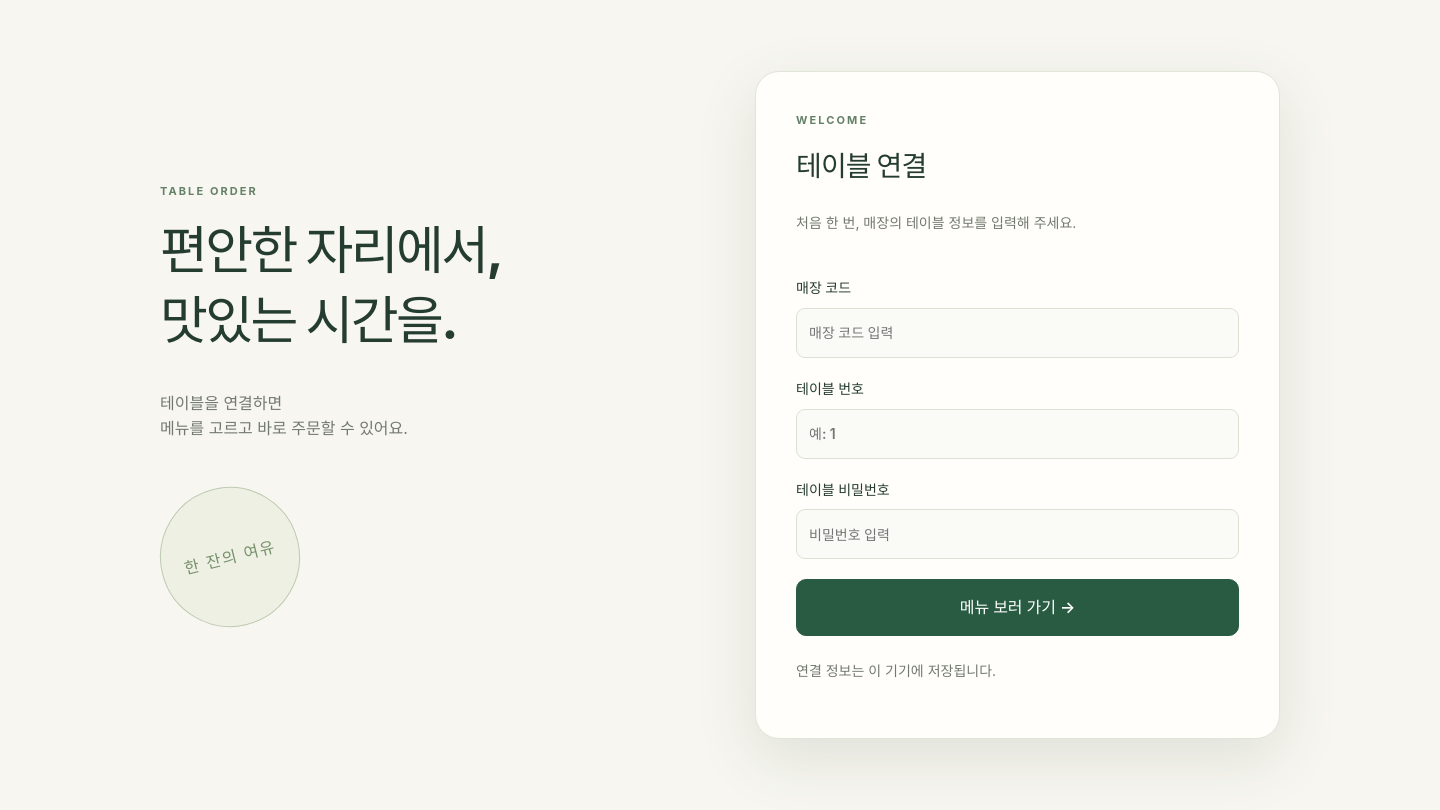
Test: shows a failed login without losing entered fields
This screenshot has width=1440, height=810.
Type "demo" into the field labelled "매장 코드".
click(1018, 333); type("demo")  # box [796,308,1239,358]
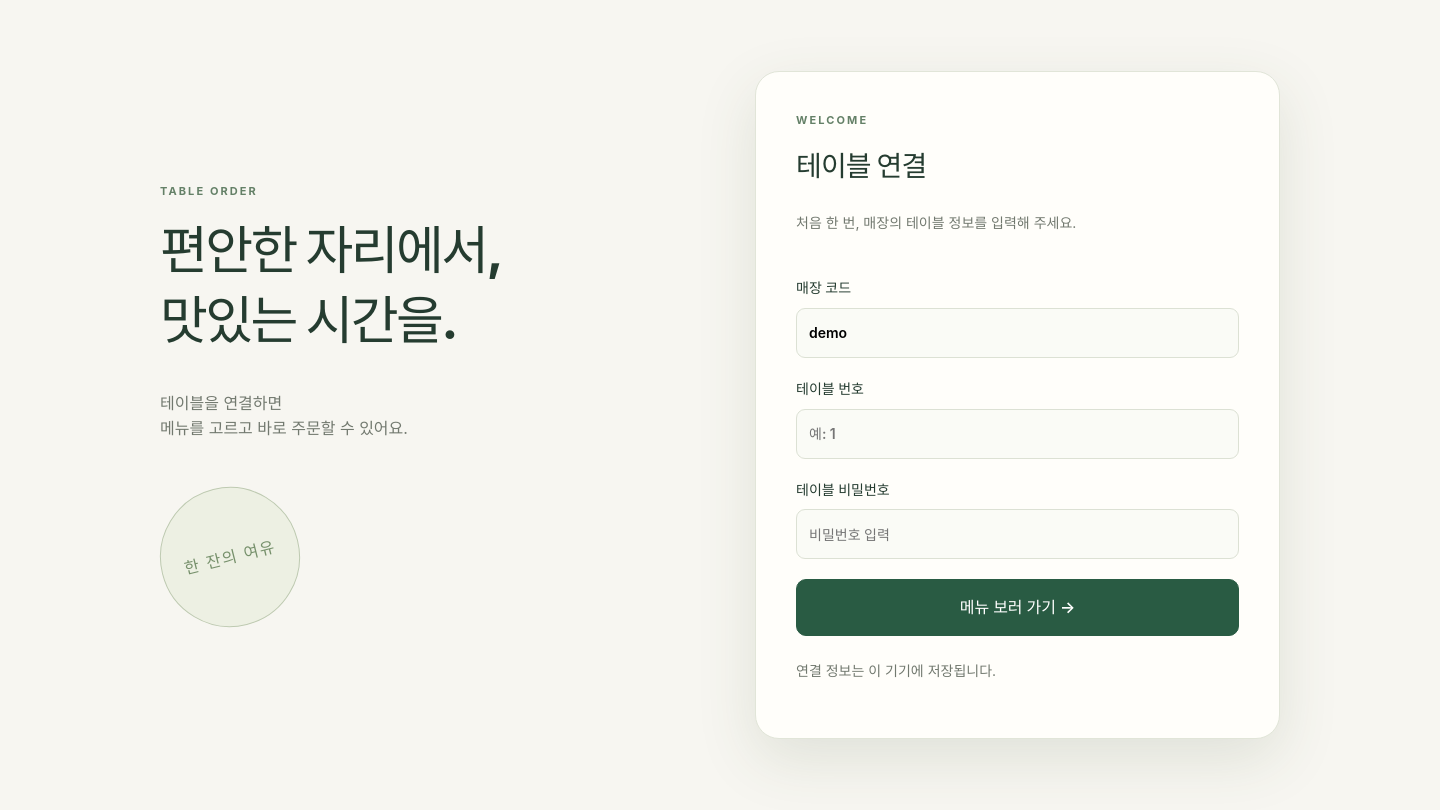
Type "1" into the field labelled "테이블 번호".
click(1018, 434); type("1")  # box [796,409,1239,459]
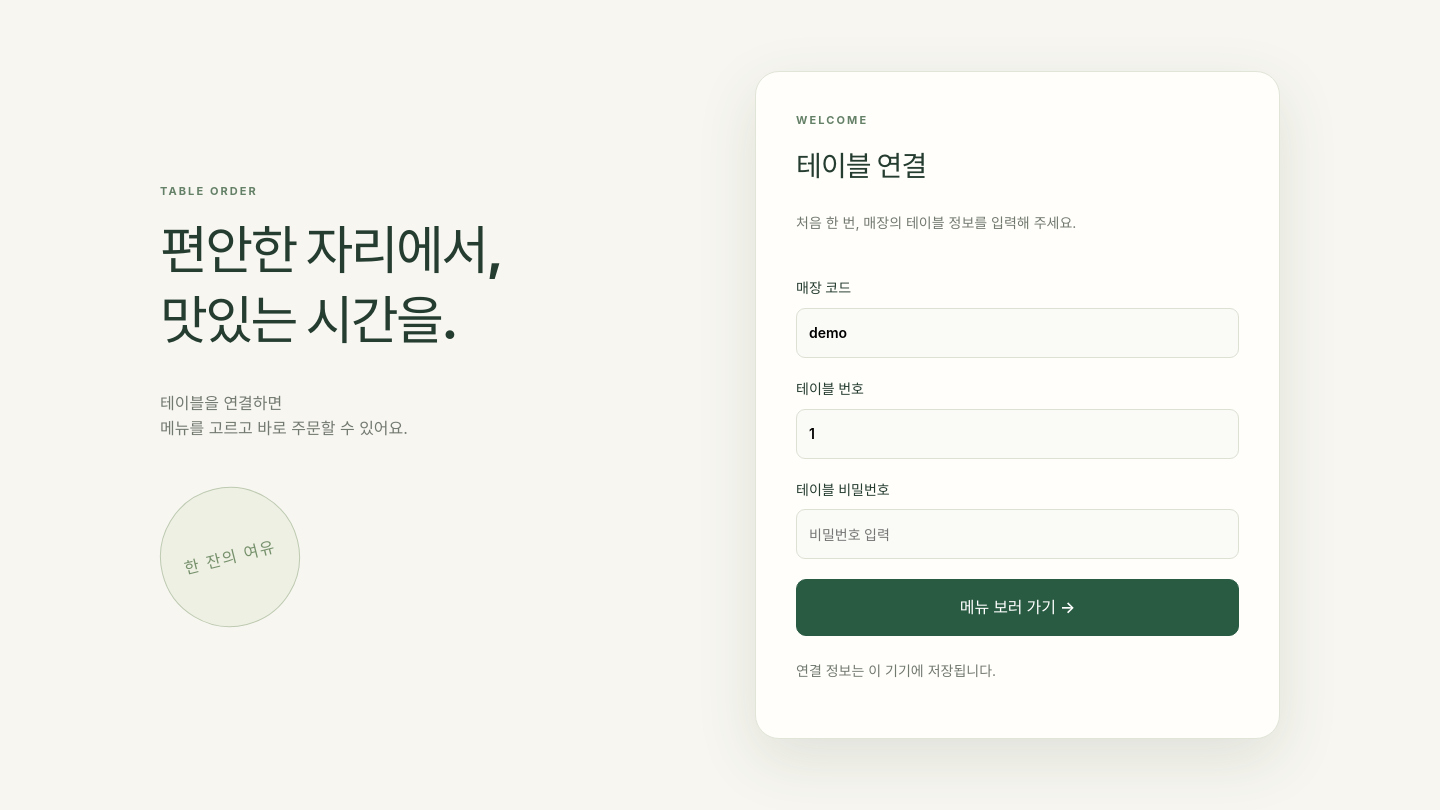
Submit the form with test id "setup-form", box [796,257,1239,636]
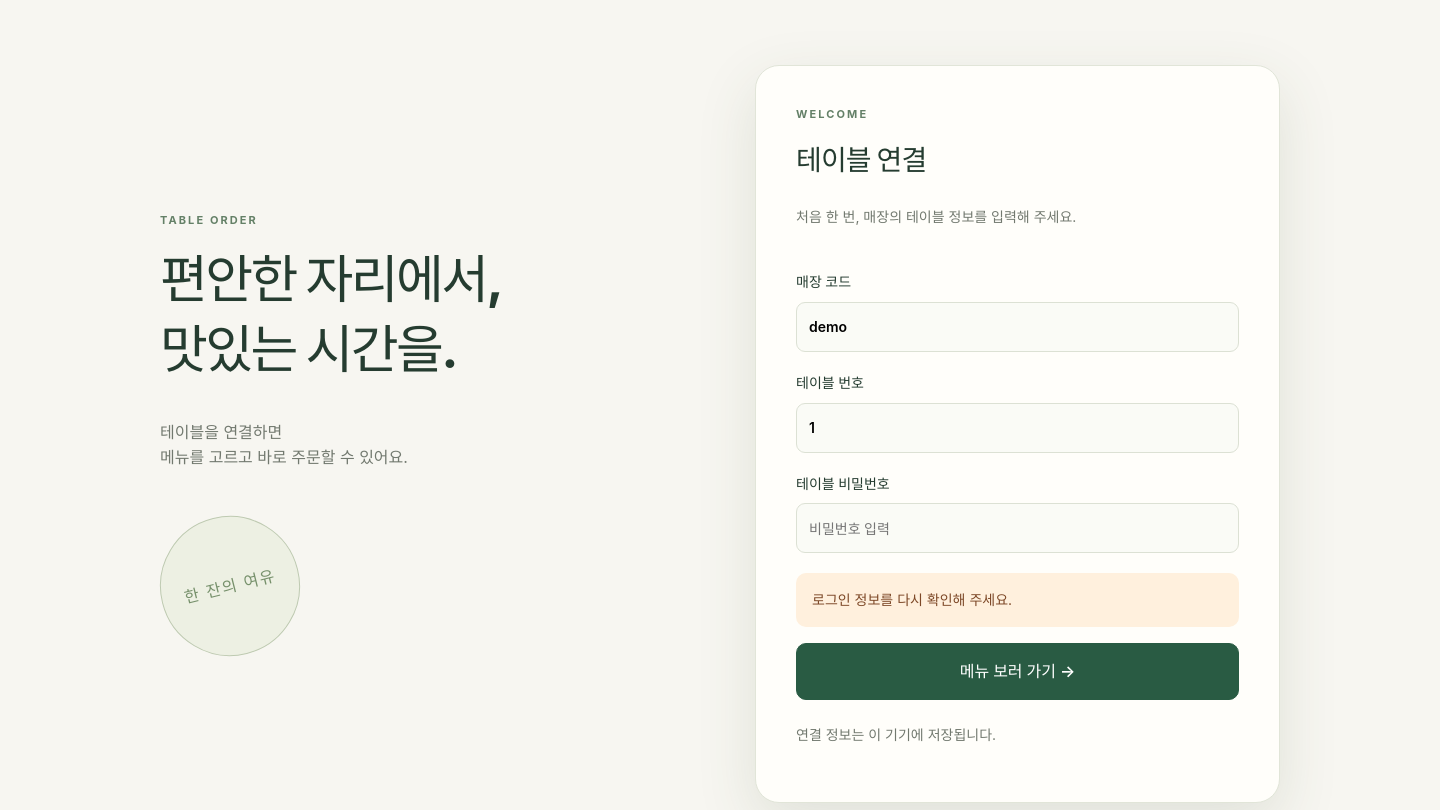
Now the message shows "로그인", box [812,591,1012,608]
